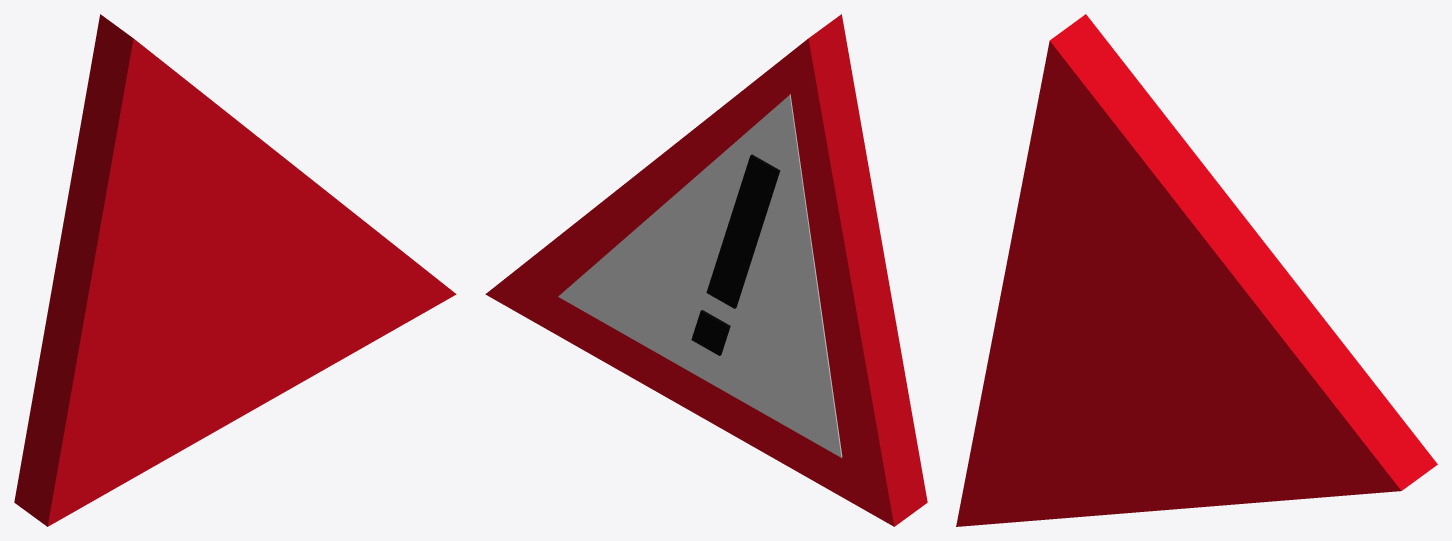
File: dodatek do vana 01.fbx
3 views of the same model, side by side, from view 1: azimuth 30°, elevation 25°; view 2: azimuth 150°, elevation 25°; view 3: azimuth 330°, elevation 25° (orthographic). The views are drawn at different scales.
Parts seen in each view (by area): view 1: Cube; view 2: Cube; view 3: Cube.
Boxes of the visible parts, left/top/right/bottom form: Cube: left=14, top=14, right=456, bottom=526; Cube: left=485, top=14, right=927, bottom=526; Cube: left=956, top=14, right=1437, bottom=526.
Size of the model in its own units: 94.07 by 103 by 14.34.
